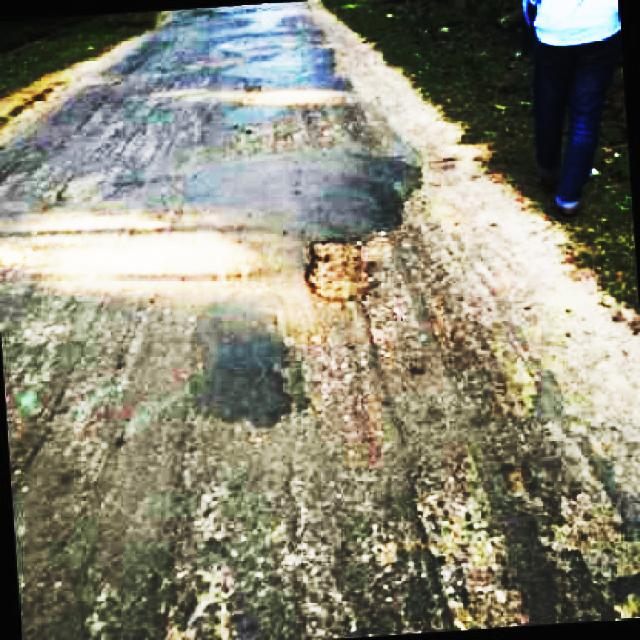pothole: (303, 237, 379, 300)
